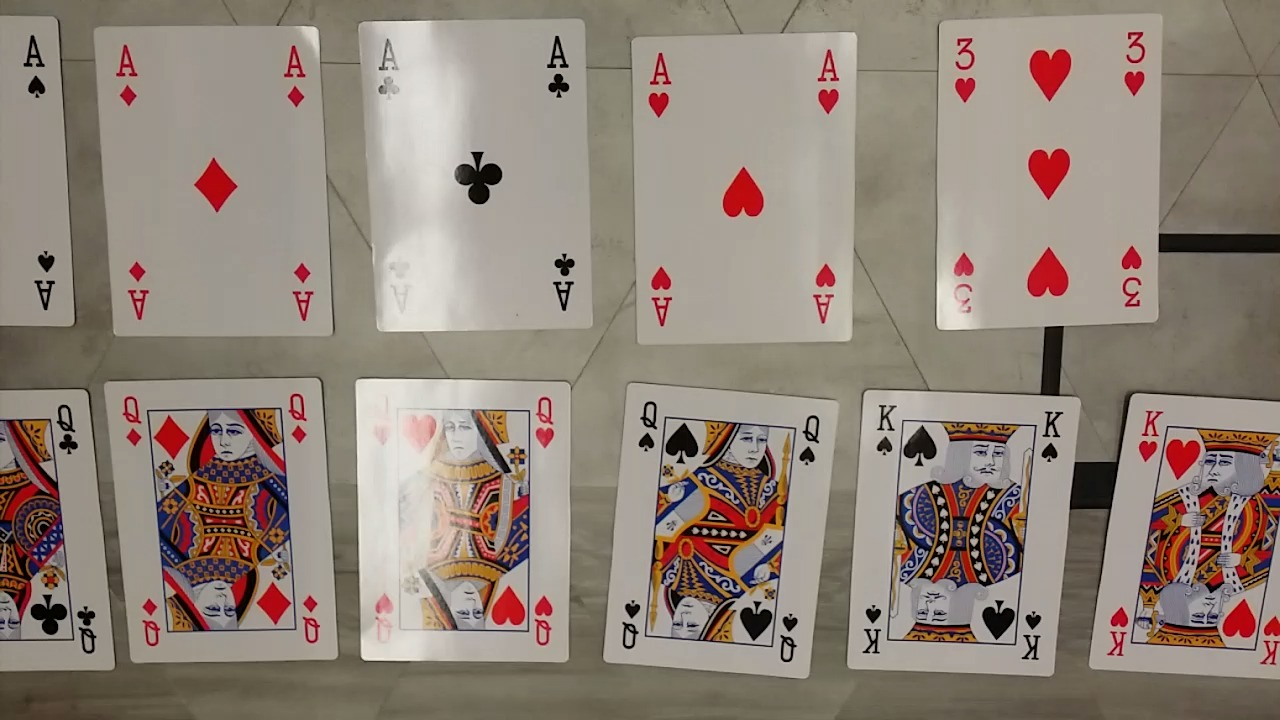1_club: (356, 16, 593, 334)
1_diamond: (91, 23, 335, 338)
1_heart: (627, 37, 865, 342)
3_heart: (937, 14, 1159, 328)
king_heart: (1079, 393, 1280, 679)
king_spade: (843, 384, 1084, 677)
queen_club: (0, 386, 117, 674)
queen_diamond: (103, 377, 341, 668)
queen_heart: (355, 373, 579, 666)
queen_spade: (600, 380, 843, 679)
